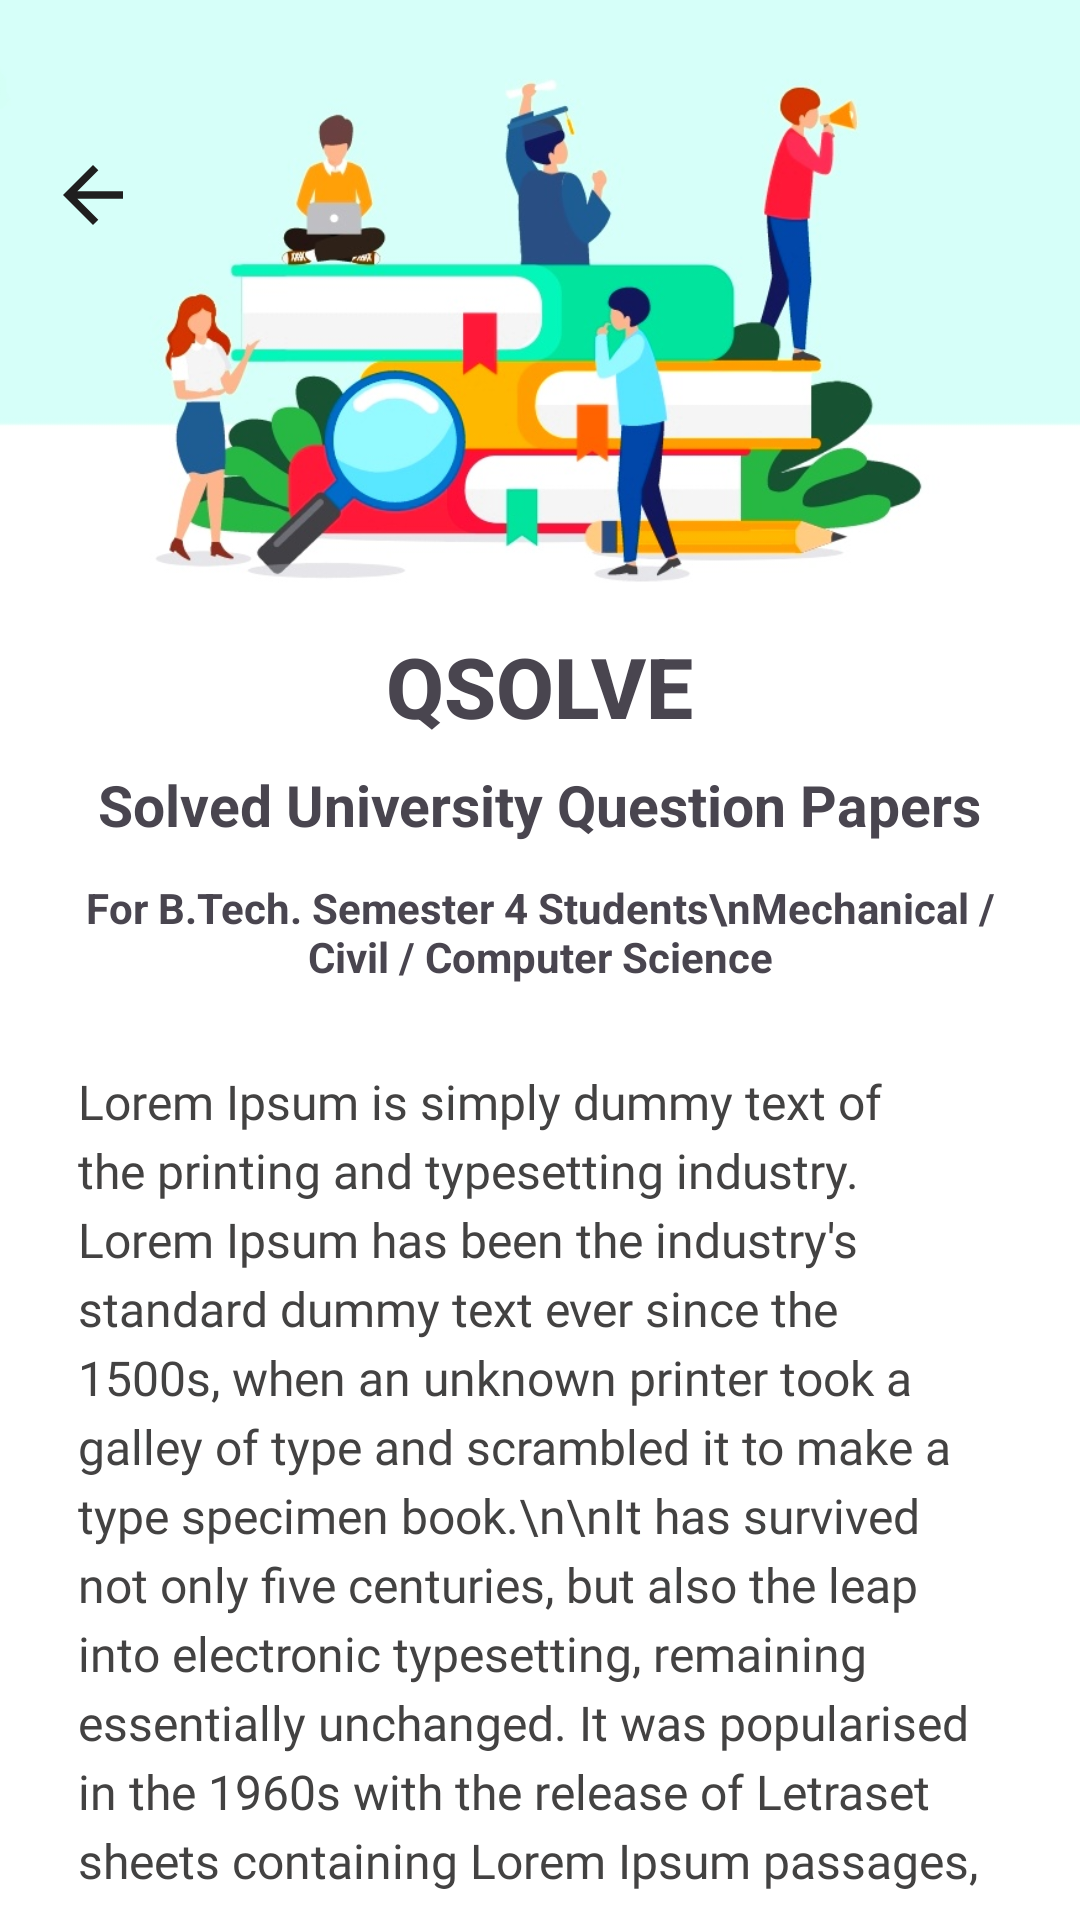

Where icons sit on this 1080px x 1920px app screen, as (x1, y1, x2, y2):
Back: (63, 165, 123, 225)
